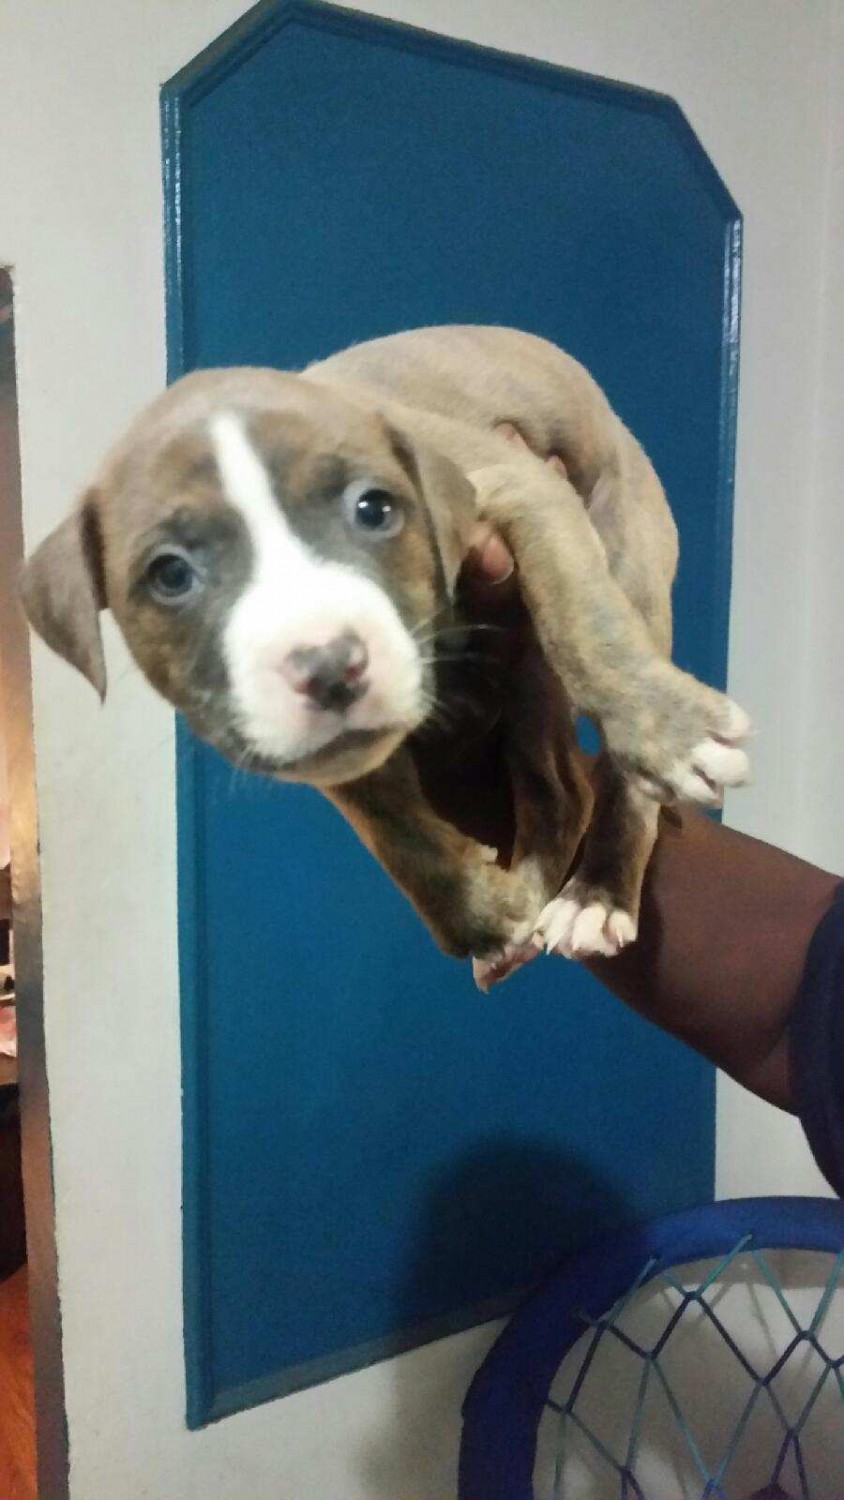am_pit_bull_terrier: (15, 321, 759, 987)
